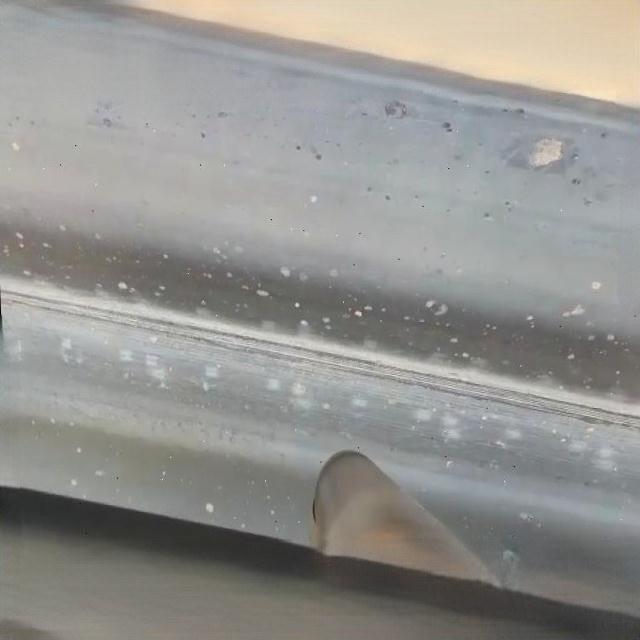Wear: (0, 279, 640, 440), (502, 124, 574, 178)
